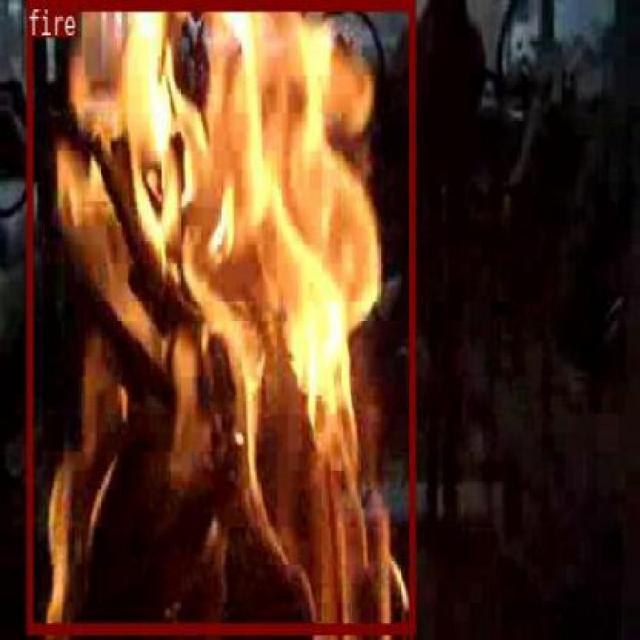Fire: (26, 0, 414, 631)
